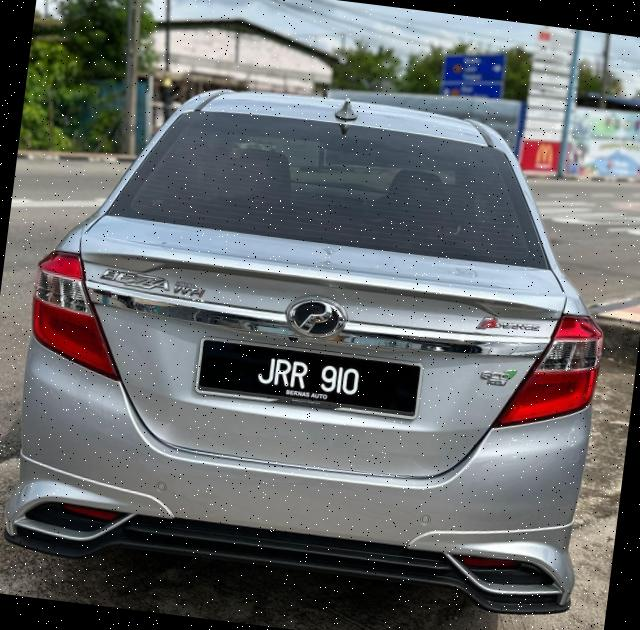License_Plate: (201, 338, 419, 418)
